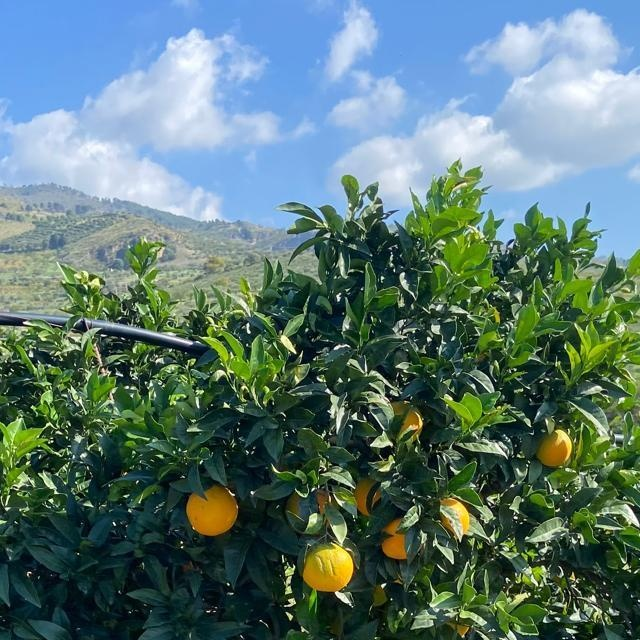orange: (300, 537, 356, 593), (182, 480, 238, 536), (286, 481, 332, 531), (432, 494, 472, 538), (536, 423, 574, 469), (379, 514, 415, 560), (390, 398, 426, 444), (352, 472, 384, 522), (444, 614, 474, 640)
